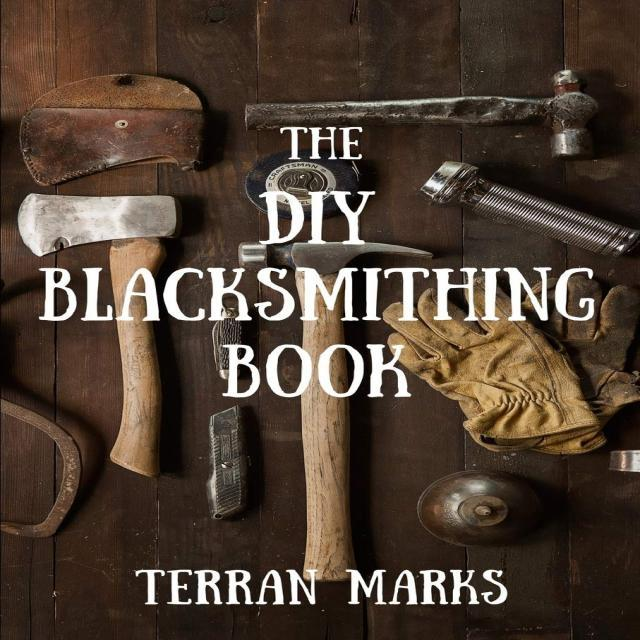hammer: (231, 226, 444, 586), (236, 64, 614, 168)
